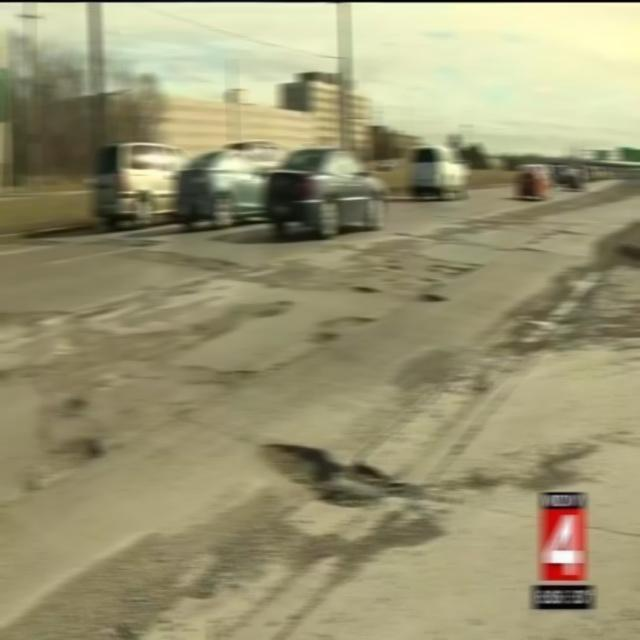Pothole: (246, 426, 419, 526), (466, 267, 600, 371), (0, 288, 159, 369), (0, 432, 113, 507), (168, 296, 296, 346), (166, 355, 270, 397), (363, 250, 478, 282), (312, 314, 374, 356), (37, 391, 103, 425), (592, 238, 640, 275), (414, 292, 449, 306), (347, 284, 380, 297)
